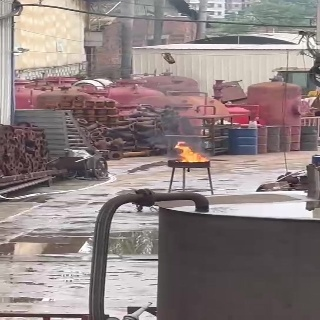fire: (174, 141, 209, 162)
